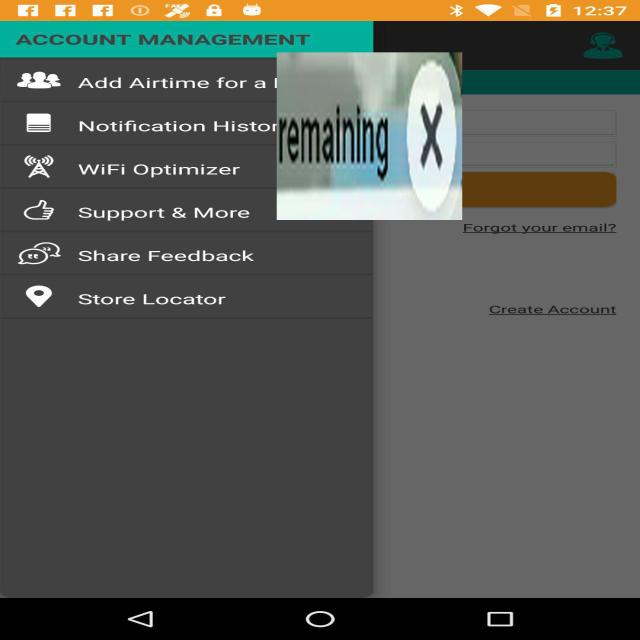misdirection: (277, 52, 462, 220)
